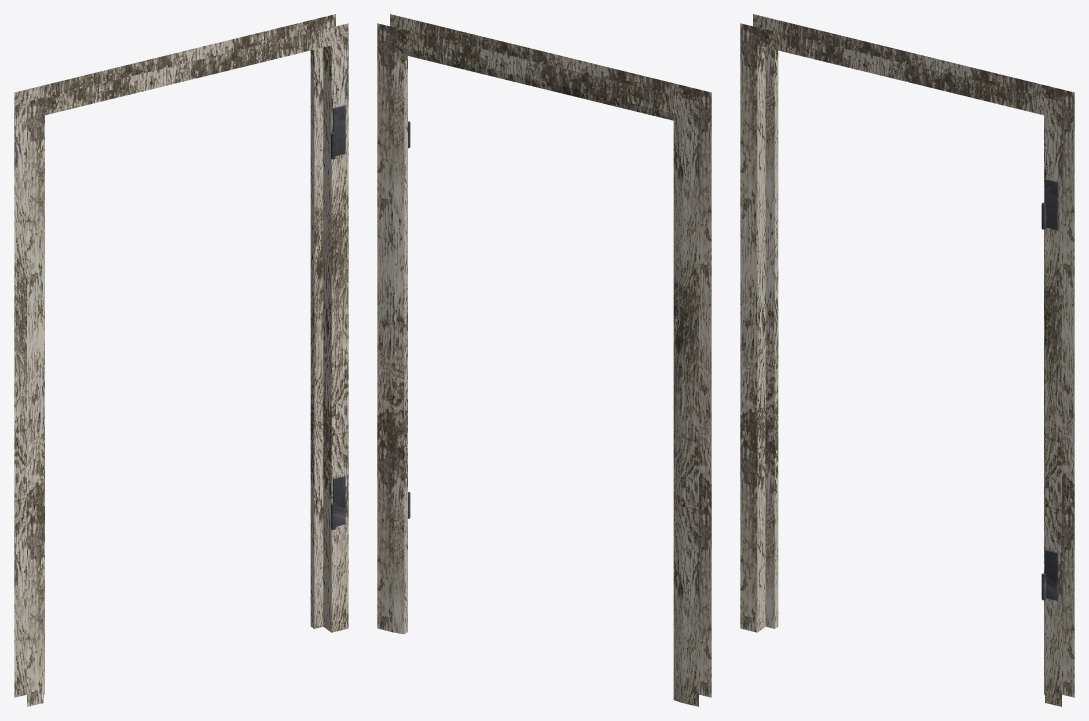
The model's file is doorAttachFrame_01_LOD0.FBX.
3 renders of one model, left to right at view 1: azimuth 30°, elevation 25°; view 2: azimuth 150°, elevation 25°; view 3: azimuth 330°, elevation 25°, orthographic.
Parts seen in each view (by area): view 1: doorAttachFrame_01; view 2: doorAttachFrame_01; view 3: doorAttachFrame_01.
Part boxes in pixels (x1,y1,x2,y2): doorAttachFrame_01: (14, 14, 348, 706); doorAttachFrame_01: (377, 14, 711, 706); doorAttachFrame_01: (740, 14, 1074, 706).
Bounding box in the file's own units: 6.45 × 11.59 × 0.5219.
Materials: 2 (2 with a texture image).
